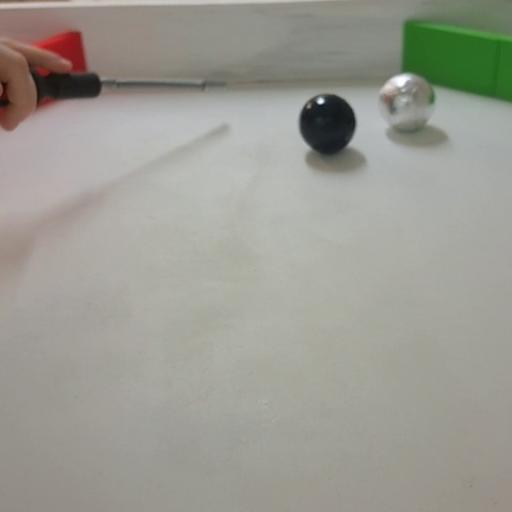alive: (377, 74, 433, 132)
dead: (298, 94, 355, 154)
